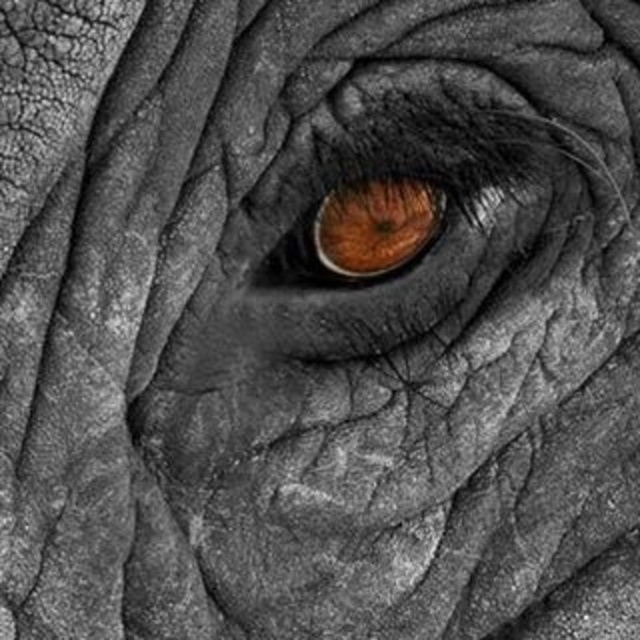Elephant: (0, 0, 638, 638)
